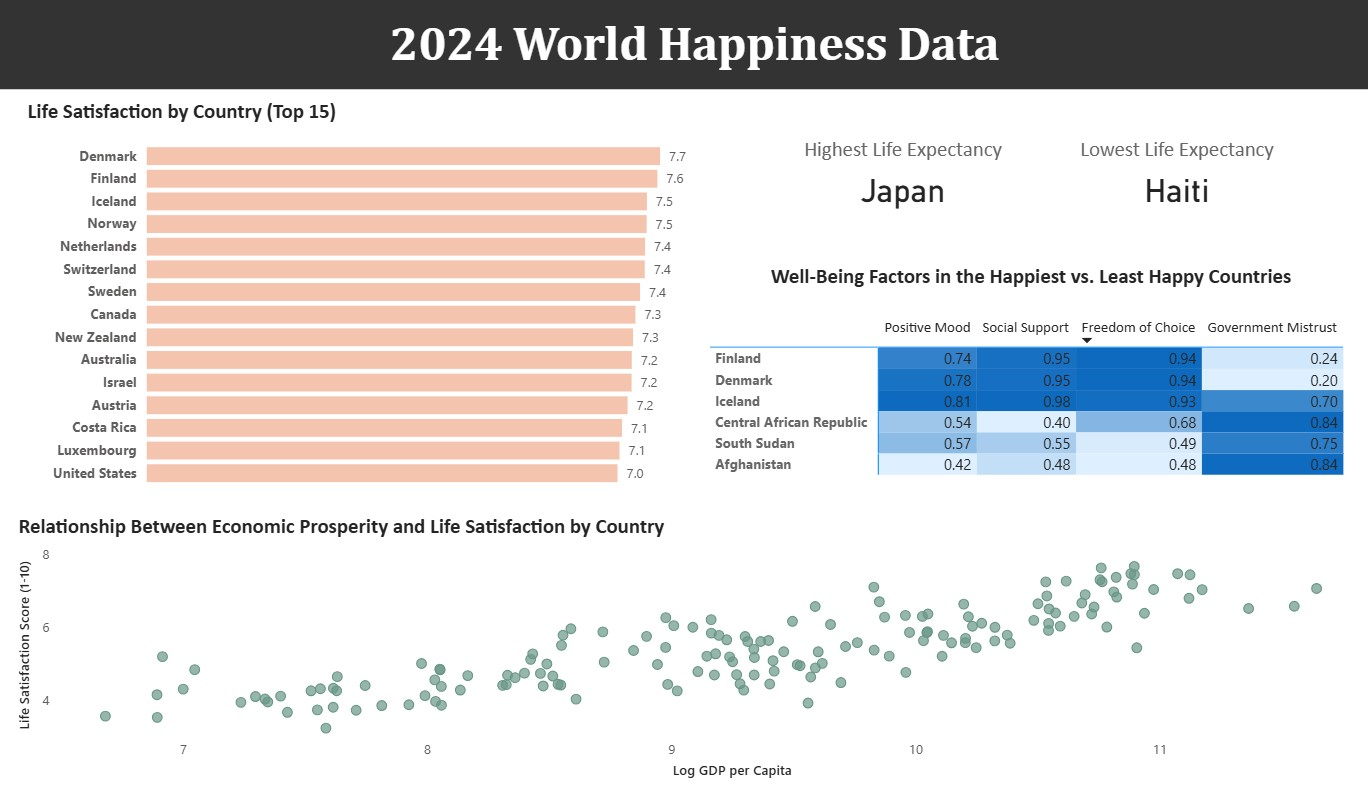

The page's visual inventory and layout, read from the dashboard file:
{"tool":"powerbi","page":{"name":"Page 1","canvas":[1280,720],"ordinal":0},"visuals":[{"type":"textbox","box":[0,0,1280,90.2],"z":0},{"type":"clusteredBarChart","title":"Life Satisfaction by Country (Top 15)","fields":{"Category":["PowerBI.Country name"],"Y":["Avg(PowerBI.Life Ladder)"]},"box":[27.8,97.9,676,358.2],"z":1000},{"type":"scatterChart","title":"Relationship Between Economic Prosperity and Life Satisfaction by Country","fields":{"X":["Avg(PowerBI.Log GDP per capita)"],"Y":["Avg(PowerBI.Life Ladder)"],"Category":["PowerBI.Country name","PowerBI.Healthy life expectancy at birth"]},"box":[19.8,470.4,1260.4,243.3],"z":2000},{"type":"card","title":"Highest Life Expectancy","fields":{"Values":["PowerBI.Country – Highest Life Expectancy"]},"box":[676,132,285.5,70.9],"z":3000},{"type":"card","title":"Lowest Life Expectancy","fields":{"Values":["PowerBI.Country – Lowest Life Expectancy"]},"box":[938.2,132,253.2,70.9],"z":4000},{"type":"pivotTable","fields":{"Rows":["PowerBI.Country name"],"Values":["PowerBI.AVG Positive","PowerBI.AVG Social Support","PowerBI.AVG Freedom","PowerBI.AVG Corruption"]},"box":[640.1,289.1,613.2,160.7],"z":5000},{"type":"textbox","box":[684.1,240.6,499.2,36.8],"z":6000}]}

Visuals, with their boxes in screenshot pixels (x1, y1, x2, y2), scaled from the page's 1280x720 canvas onto the 1368x790 screenshot:
textbox: box=[0, 0, 1367, 99]
"Life Satisfaction by Country (Top 15)" clusteredBarChart: box=[30, 107, 752, 500]
"Relationship Between Economic Prosperity and Life Satisfaction by Country" scatterChart: box=[21, 516, 1367, 783]
"Highest Life Expectancy" card: box=[722, 145, 1028, 223]
"Lowest Life Expectancy" card: box=[1003, 145, 1273, 223]
pivotTable - PowerBI.Country name x PowerBI.AVG Positive: box=[684, 317, 1339, 494]
textbox: box=[731, 264, 1265, 304]
